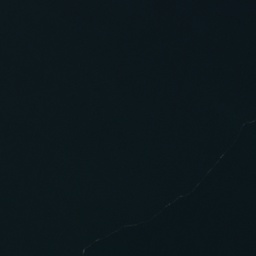Marine Debris: (108, 151, 227, 236)
